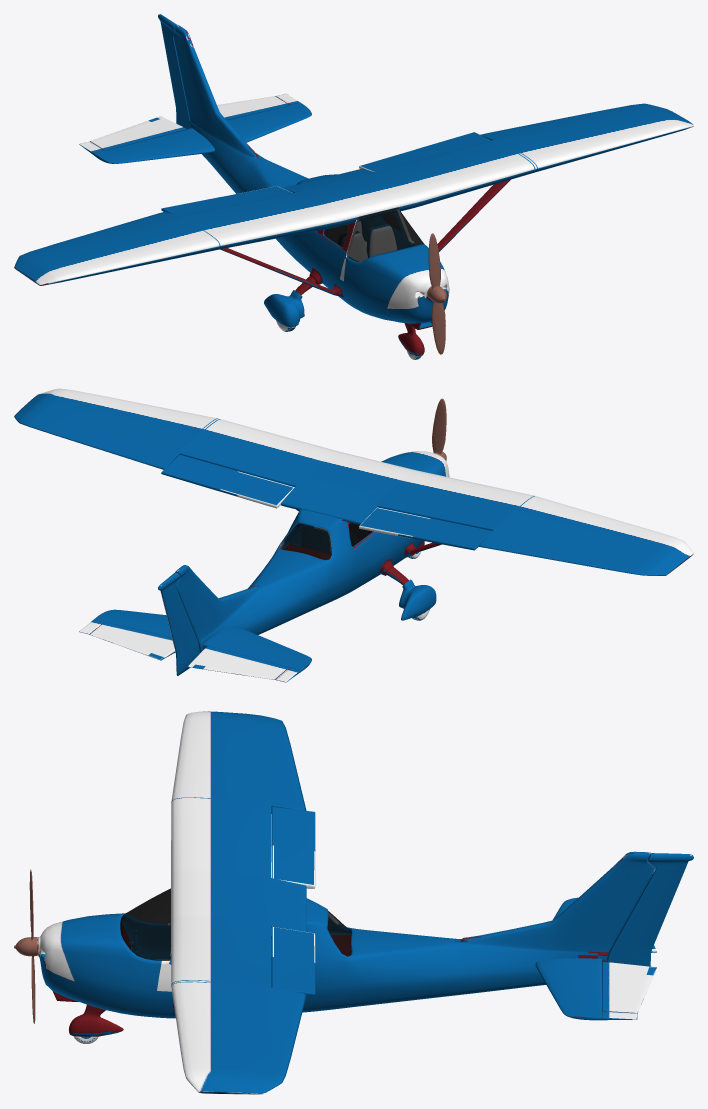
The model's file is Avion.glb.
The picture shows the model from 3 angles, top to bottom: view 1: azimuth 30°, elevation 25°; view 2: azimuth 150°, elevation 25°; view 3: azimuth 270°, elevation 25°; orthographic projection. The views are drawn at different scales.
Parts seen in each view (by area): view 1: 11804_Airplane_v2_l2, VITRES, Hélice.001; view 2: 11804_Airplane_v2_l2, VITRES, Hélice.001; view 3: 11804_Airplane_v2_l2, VITRES, Hélice.001.
Boxes of the visible parts, left/top/right/bottom form: 11804_Airplane_v2_l2: left=14, top=14, right=693, bottom=359; VITRES: left=317, top=207, right=423, bottom=261; Hélice.001: left=427, top=233, right=446, bottom=354; 11804_Airplane_v2_l2: left=14, top=388, right=693, bottom=682; VITRES: left=279, top=522, right=373, bottom=559; Hélice.001: left=432, top=398, right=446, bottom=460; 11804_Airplane_v2_l2: left=38, top=711, right=693, bottom=1094; VITRES: left=120, top=888, right=351, bottom=960; Hélice.001: left=14, top=869, right=38, bottom=1023.
Bounding box in the file's own units: 15.57 × 3.65 × 11.77.
Materials: 3 (2 with a texture image).
